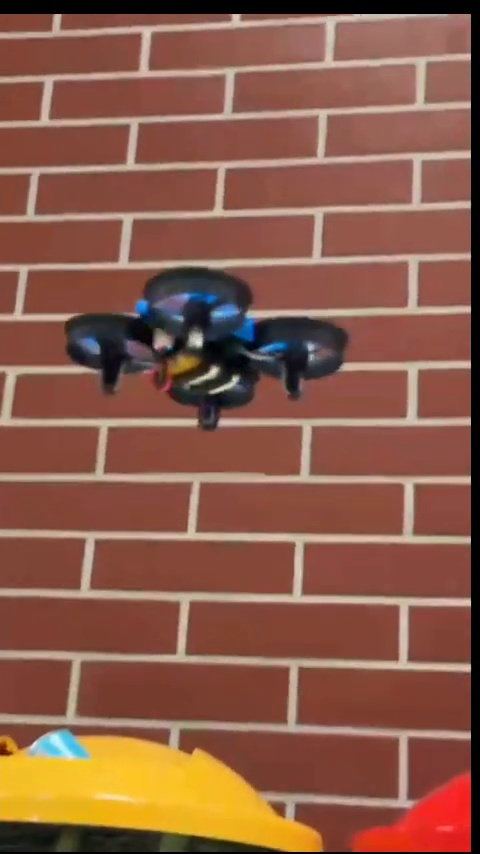drone: (63, 264, 348, 437)
